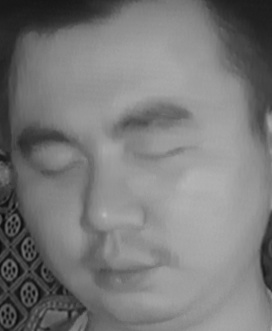blink: (134, 136, 188, 177), (32, 152, 85, 188)
mouth: (77, 241, 169, 304)
